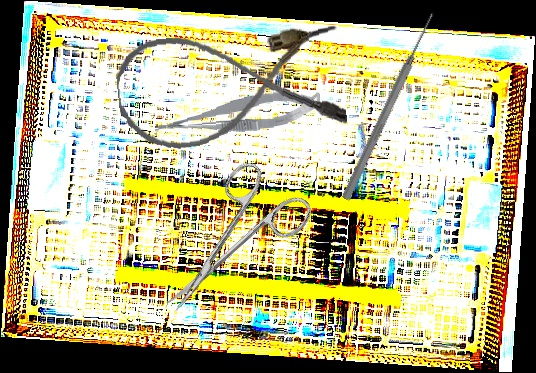Cannula: (112, 20, 349, 155)
Iris Scissors: (136, 150, 318, 337)
Micro Scissor: (152, 88, 323, 139)
Pusher: (339, 8, 440, 203)
